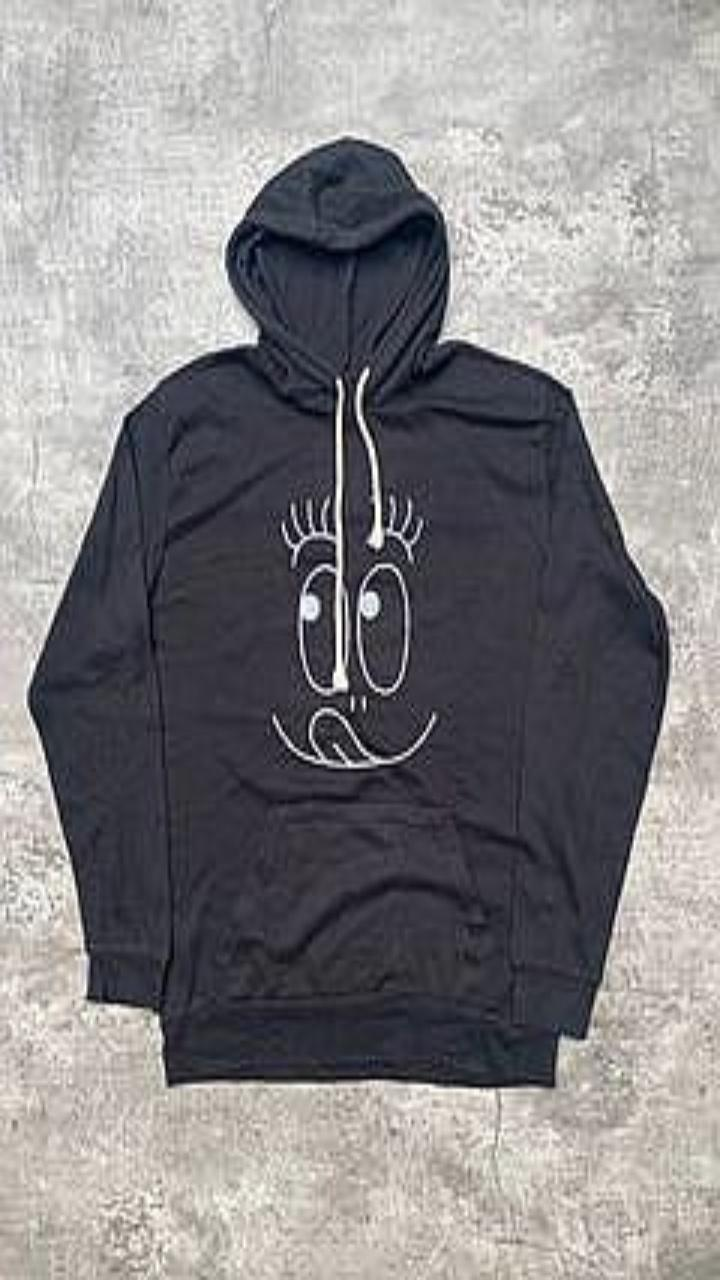Hoodie: (28, 136, 668, 1085)
